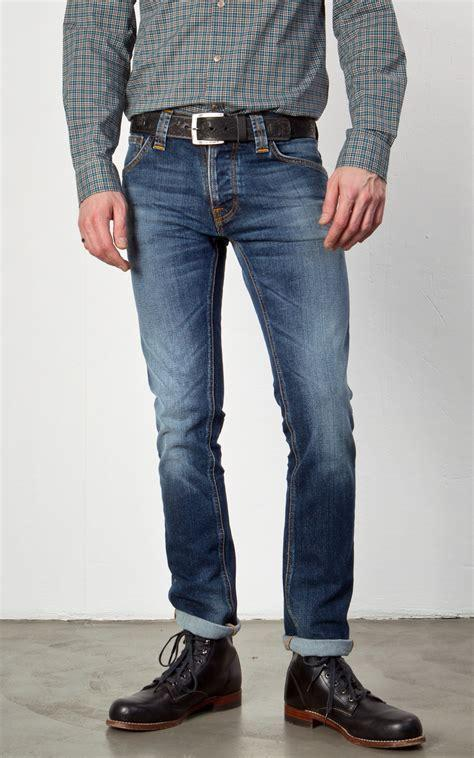pants: (123, 107, 355, 655)
